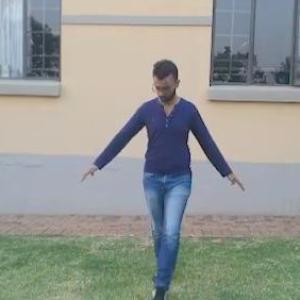land: (76, 42, 240, 292)
